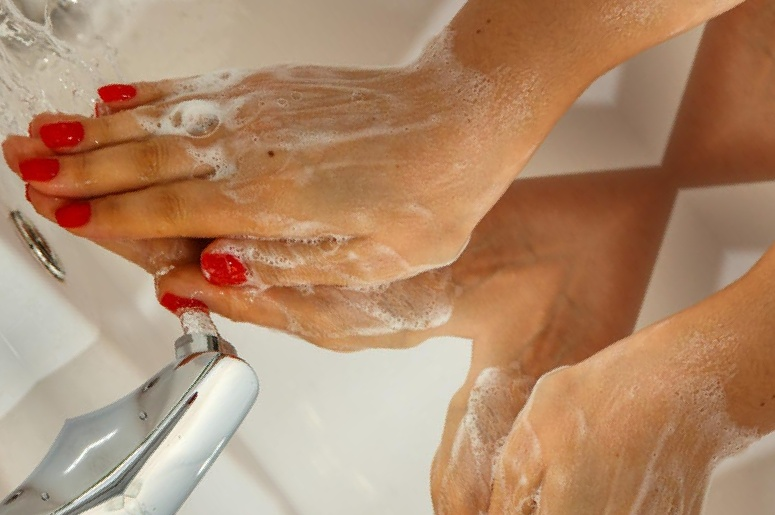washing hand: (0, 0, 552, 514)
